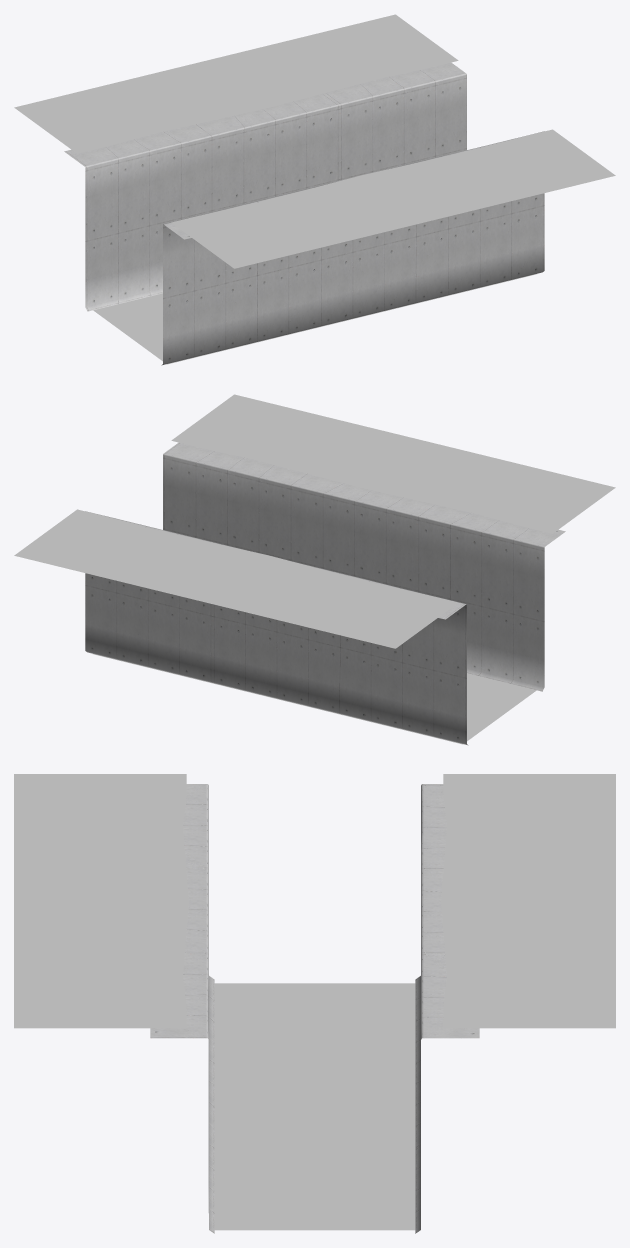
File: michi+Floor.fbx
3 renders of one model, top to bottom at view 1: azimuth 30°, elevation 25°; view 2: azimuth 150°, elevation 25°; view 3: azimuth 270°, elevation 25°, orthographic. The views are drawn at different scales.
Visible parts, largest first — view 1: polySurface12 (×2), polySurface13, polySurface5, pPlane1; view 2: polySurface12 (×2), polySurface5, polySurface13, pPlane1; view 3: polySurface12 (×2), pPlane1, polySurface5, polySurface13.
Part boxes in pixels (x1,y1,x2,y2): polySurface12 (×2): [14, 14, 615, 268]; polySurface13: [64, 62, 466, 311]; polySurface5: [161, 131, 544, 365]; pPlane1: [93, 274, 536, 364]; polySurface12 (×2): [14, 394, 615, 648]; polySurface5: [163, 442, 565, 691]; polySurface13: [85, 511, 468, 745]; pPlane1: [93, 654, 536, 744]; polySurface12 (×2): [14, 774, 615, 1028]; pPlane1: [214, 983, 415, 1230]; polySurface5: [150, 784, 214, 1233]; polySurface13: [415, 784, 479, 1233].
Size of the model in its own units: 900 by 339 by 900.
